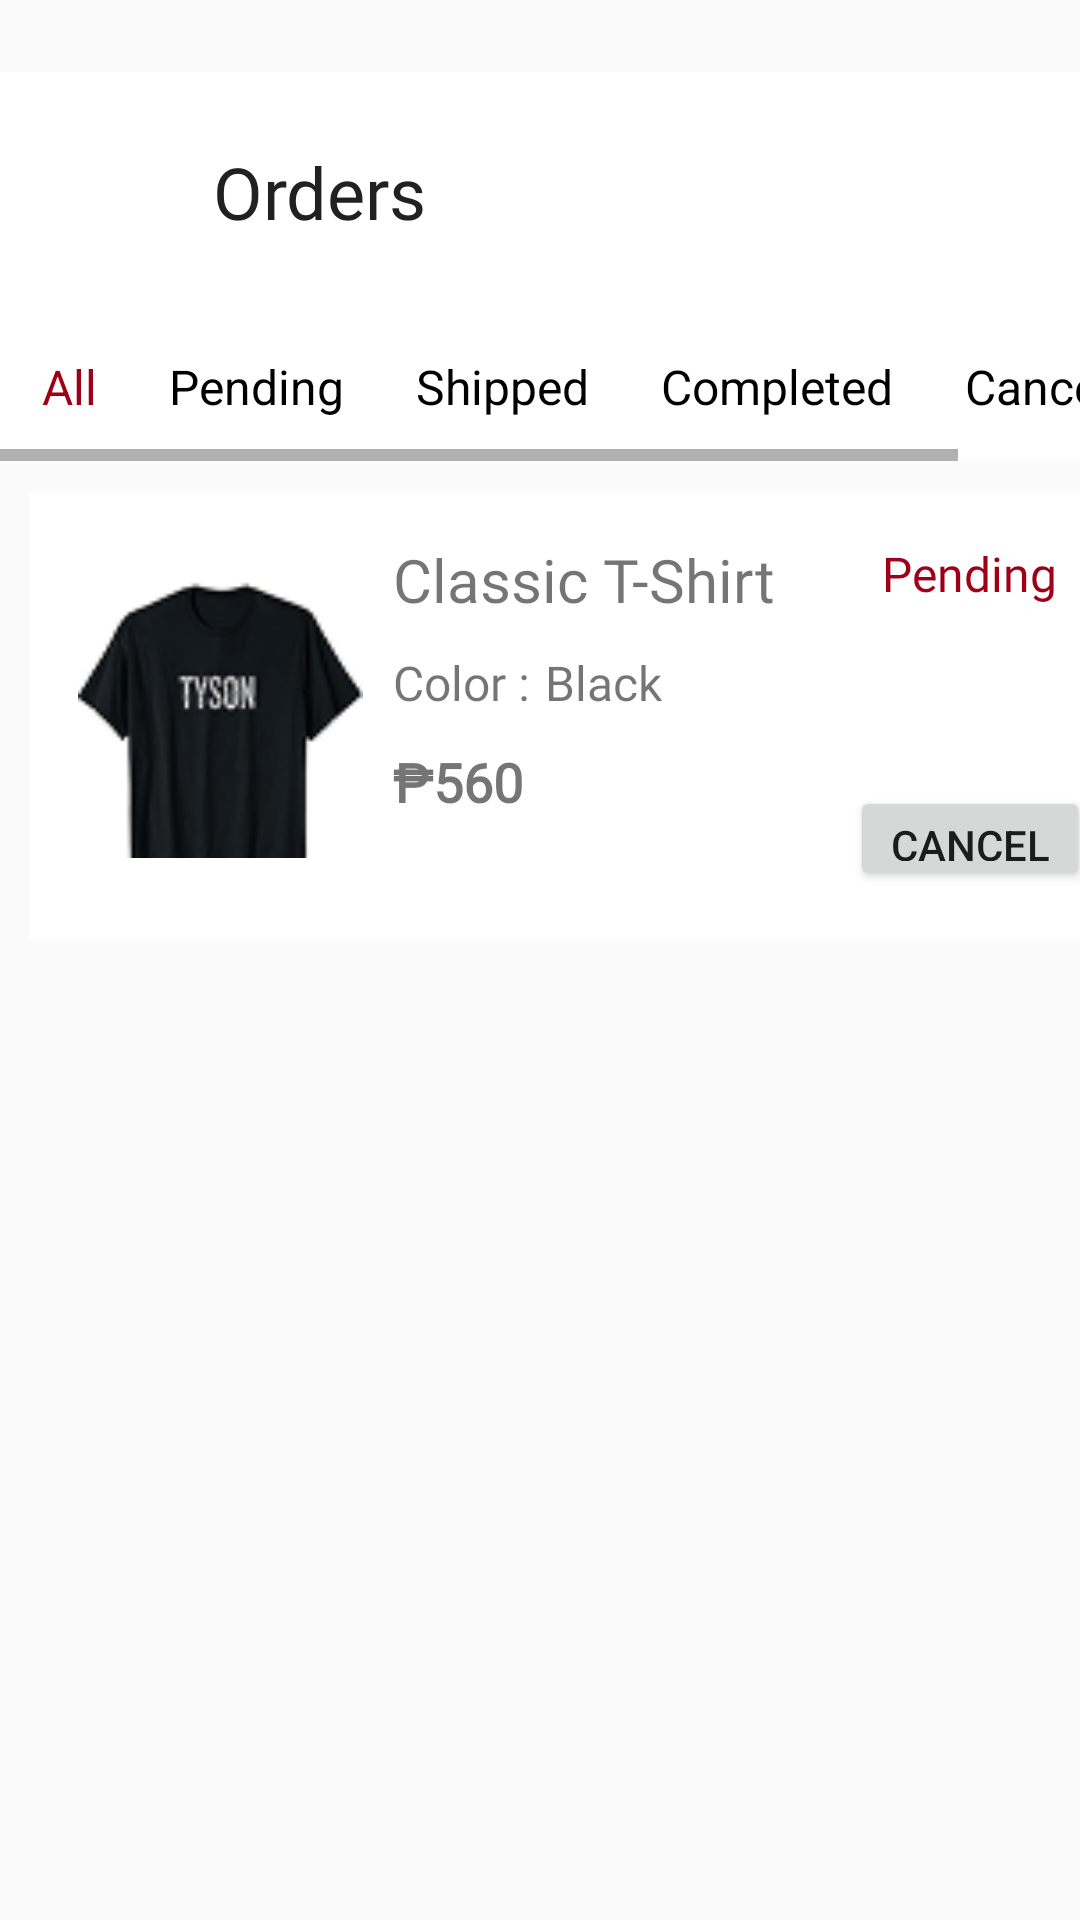

Screen size 1080px×1920px. Icon name, then its box in pixels as {"x1": x1, "y1": y1, "x2": x2, "y2": y2}:
tyson tshirt: {"x1": 78, "y1": 583, "x2": 363, "y2": 858}
